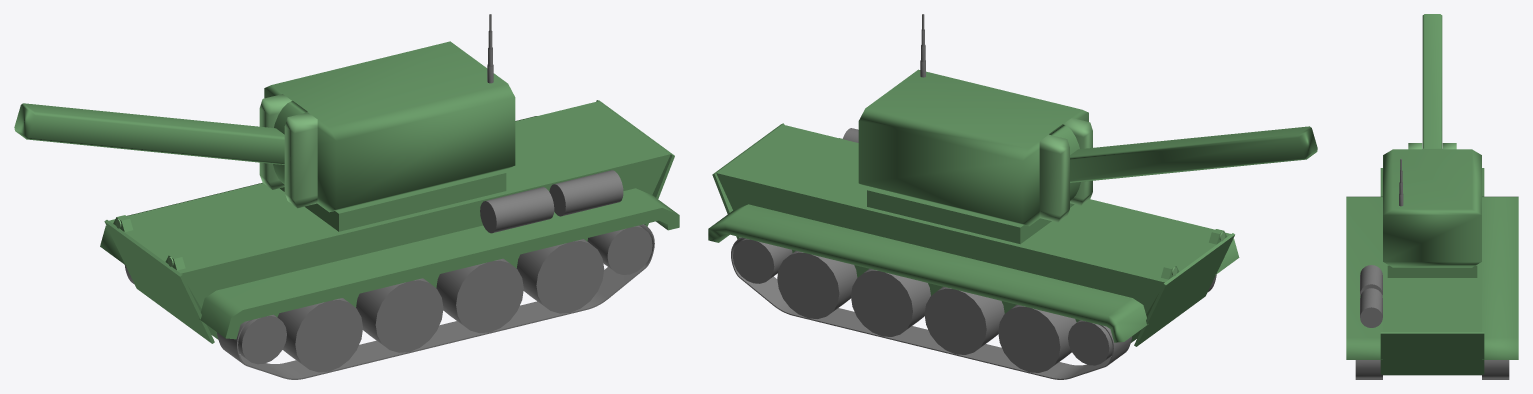
Rendered from Tanks and Armored Vehicle(1).glb.
3 renders of one model, left to right at view 1: azimuth 30°, elevation 25°; view 2: azimuth 150°, elevation 25°; view 3: azimuth 270°, elevation 25°, orthographic. The views are drawn at different scales.
Parts seen in each view (by area): view 1: Root; view 2: Root; view 3: Root.
Part boxes in pixels (<box>): Root: <box>14,14,679,379</box>; Root: <box>708,14,1317,379</box>; Root: <box>1346,14,1518,379</box>.
Size of the model in its own units: 10.7 by 4.75 by 3.77.
